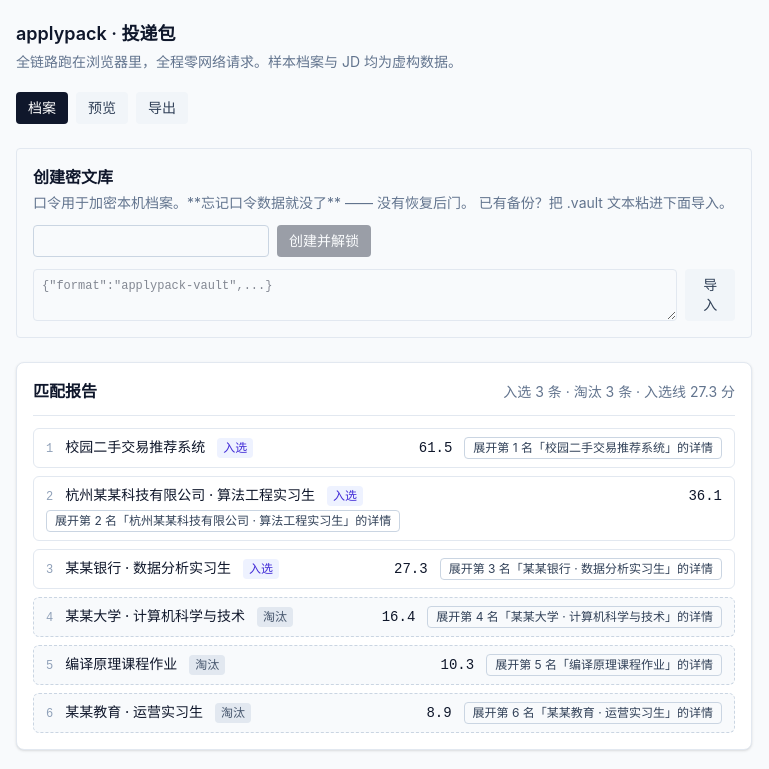
Test case: App —— 三块功能接线 › 解锁后「复制密文信封」把 toVaultText() 写进剪贴板，并给出已复制反馈
Type "test-pass" into the password field named "新库口令" at coordinates (151, 241), box [33,225,269,257]
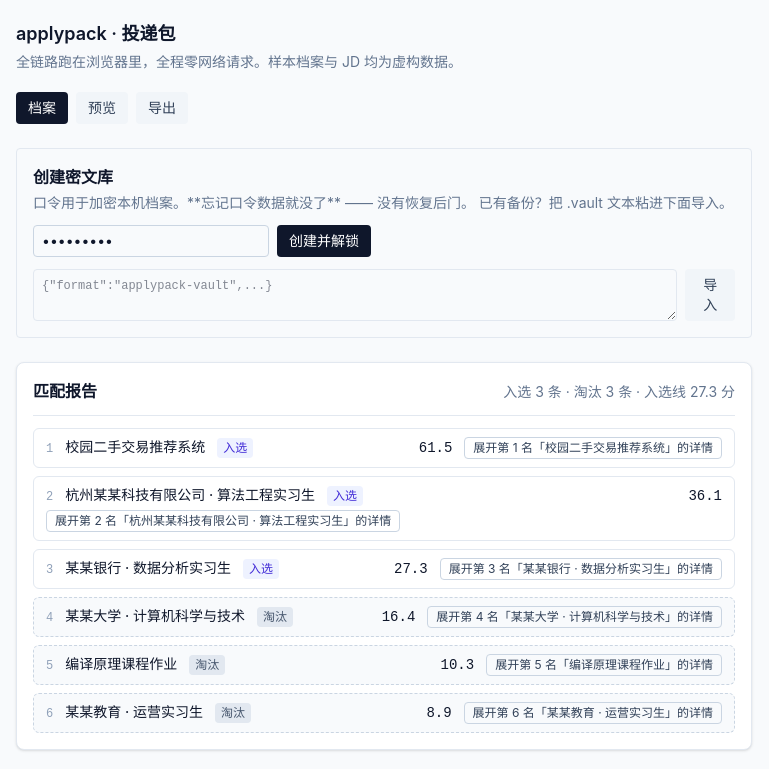
Click the button with test id "vault-create" at coordinates (324, 241), box [277,225,371,257]
(page scrolled)
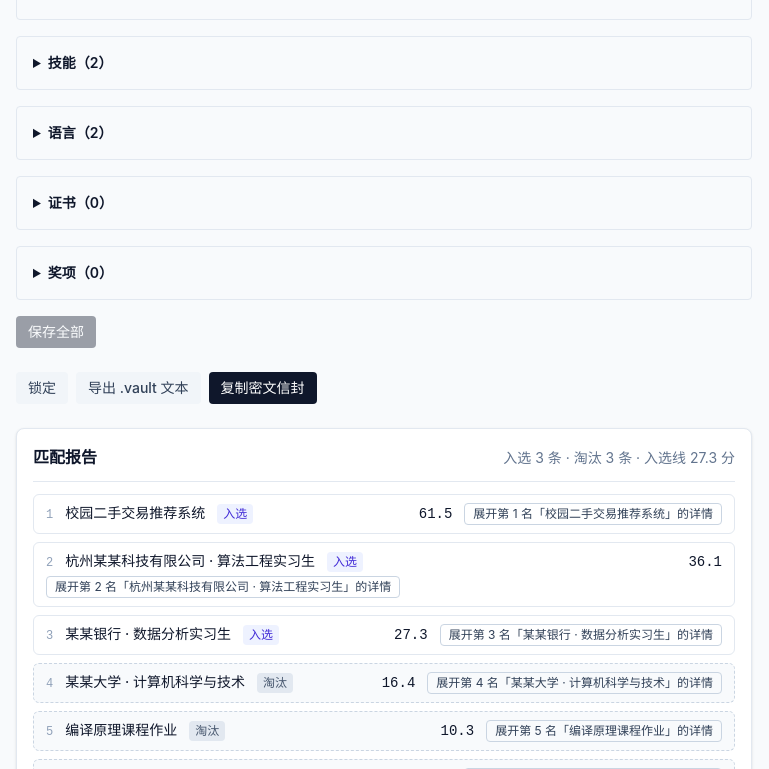
Expected: the button with test id "vault-lock" is shown, [16,372,68,404]
Click the button with test id "vault-copy-envelope" at coordinates (262, 388), box [208,372,316,404]
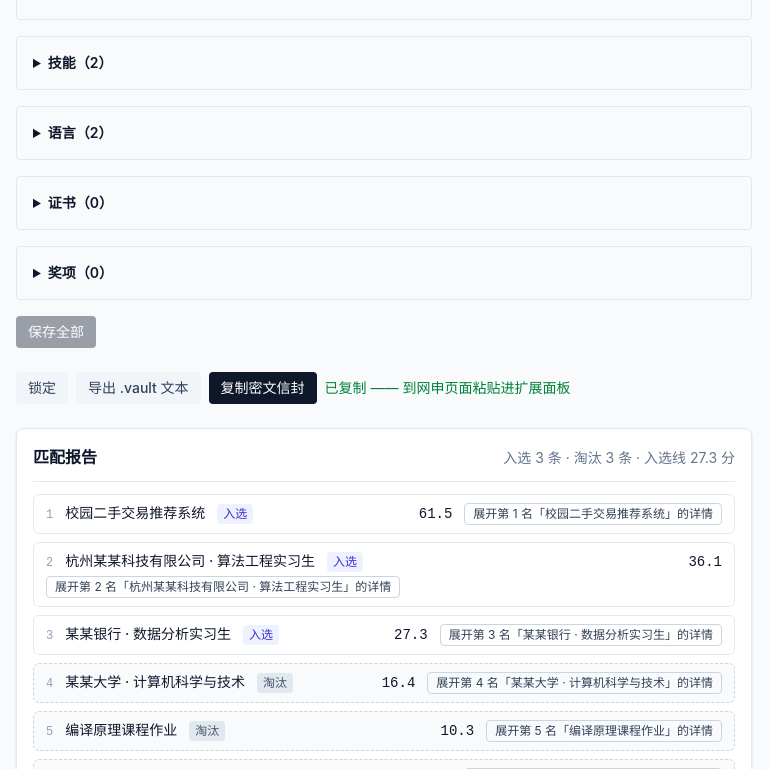
Expected: the text with test id "vault-copy-done" shows "已复制", [324,379,570,396]
